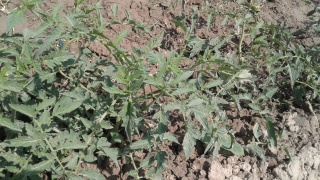tomato plant: (106, 39, 295, 147), (1, 10, 102, 169)
